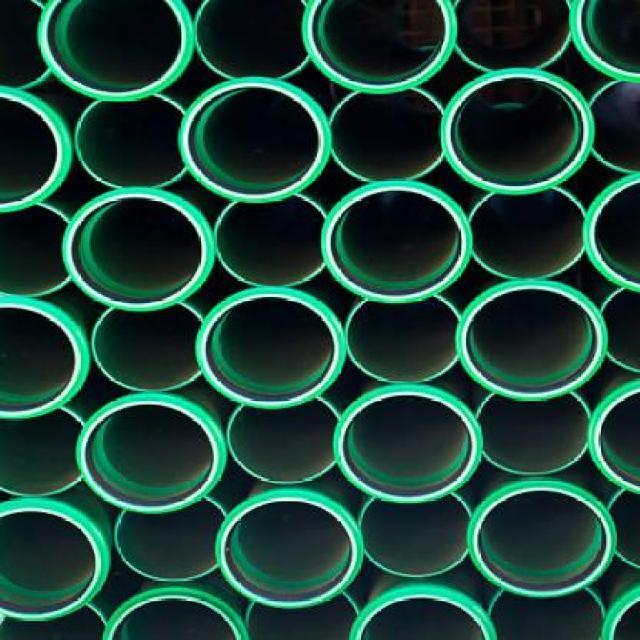pipe: (440, 67, 595, 195), (178, 76, 332, 204), (62, 187, 216, 312), (321, 182, 474, 304), (455, 280, 608, 400), (76, 393, 227, 513), (467, 480, 615, 599), (333, 386, 482, 503), (197, 290, 343, 408), (216, 491, 362, 608), (38, 0, 194, 102), (301, 0, 458, 94), (0, 499, 109, 622), (0, 297, 91, 420), (329, 88, 446, 182), (468, 187, 586, 280), (75, 95, 188, 189), (214, 195, 328, 288), (345, 295, 461, 383), (227, 397, 343, 485), (92, 303, 206, 391), (193, 0, 312, 82), (474, 393, 591, 476), (358, 493, 471, 578), (114, 498, 228, 580), (0, 85, 71, 213), (453, 0, 572, 71), (102, 586, 251, 640), (349, 586, 498, 640), (582, 174, 639, 294), (0, 203, 71, 297), (488, 588, 608, 639), (586, 78, 640, 174)
